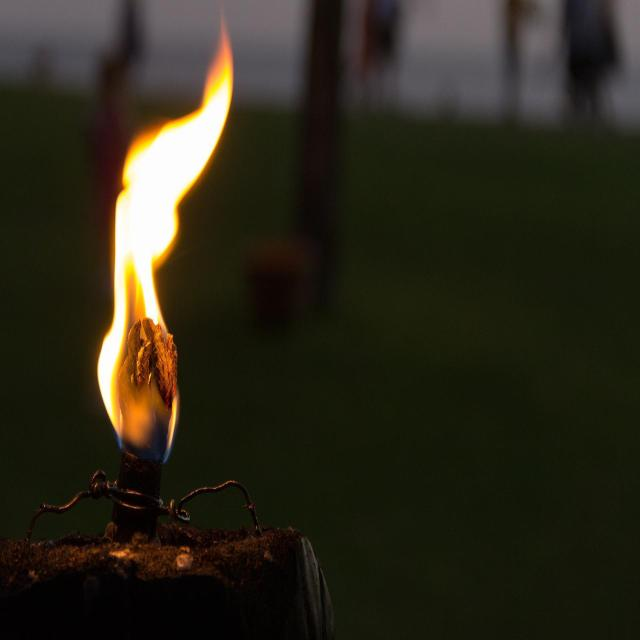Fire_Save: (95, 9, 234, 466)
